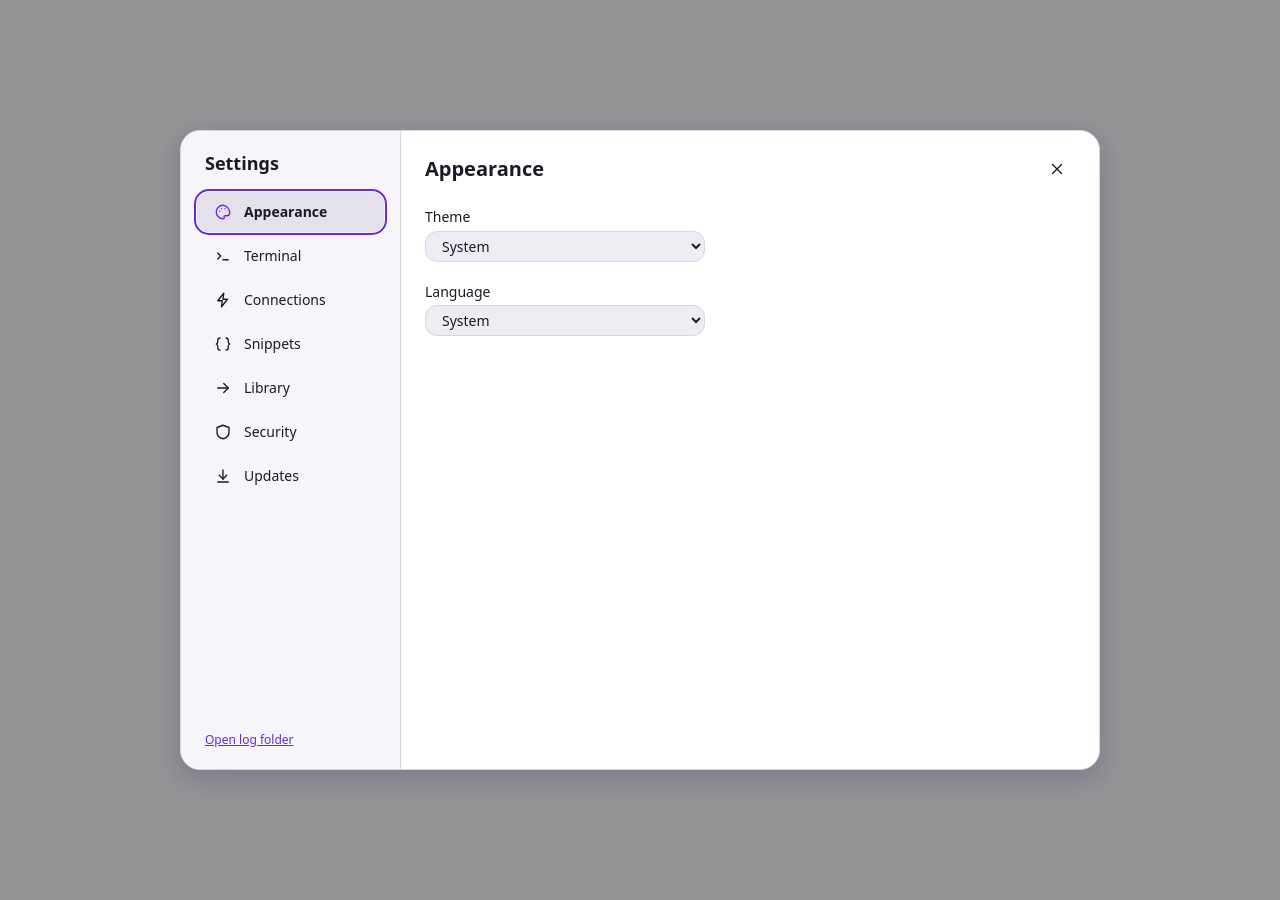
Test case: a rejected field is shown in its own category
Select "Dark" in the dropdown labelled "Theme" at {"x": 565, "y": 246}, box [425,231,705,262]
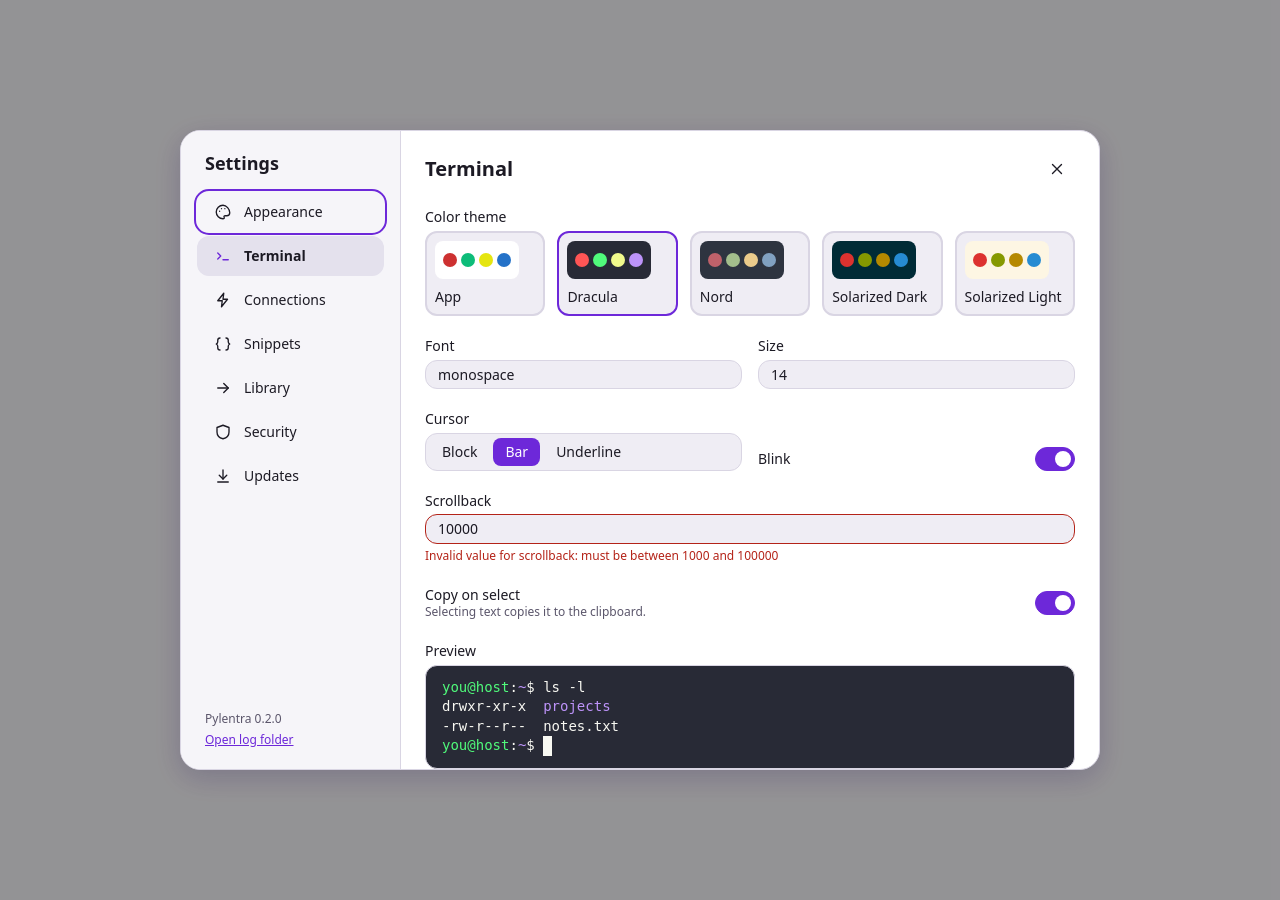
Result: the text "Invalid value for scrollback" is shown at [425,547,778,564]
